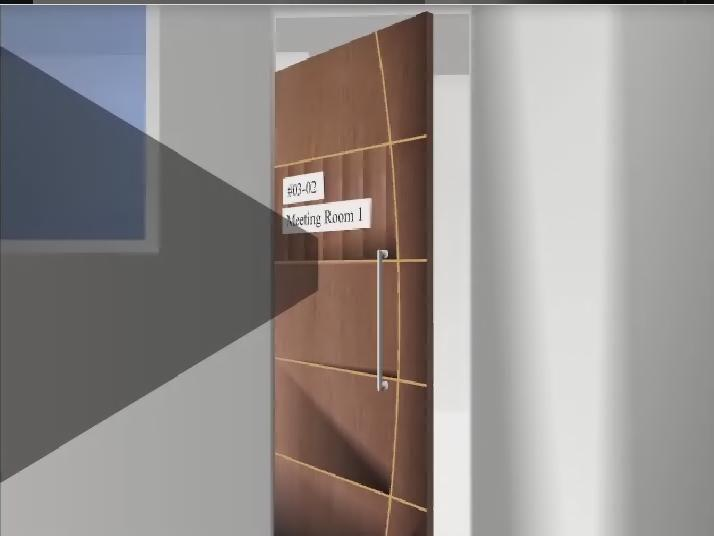door: (275, 10, 433, 536)
